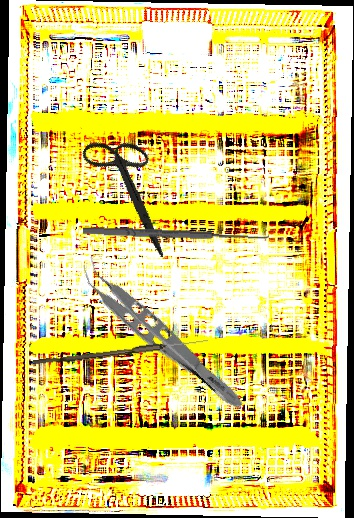Hook Surgical: (82, 218, 270, 244)
Iris Scissors: (57, 123, 205, 258)
Surgical Spoon: (33, 335, 209, 369)
Tissue Forceps: (70, 253, 257, 415)
